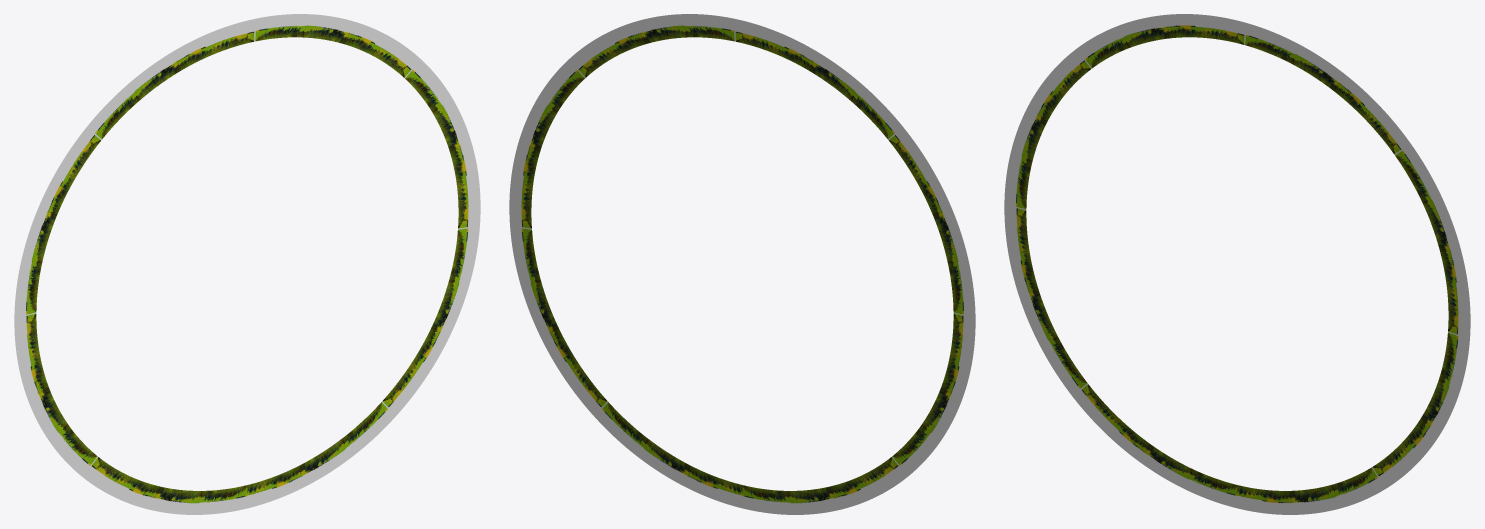
The model's file is ForegroundDisk.FBX.
The picture shows the model from 3 angles, left to right: view 1: azimuth 30°, elevation 25°; view 2: azimuth 150°, elevation 25°; view 3: azimuth 330°, elevation 25°; orthographic projection.
Visible parts, largest first — view 1: ForegroundDisk; view 2: ForegroundDisk; view 3: ForegroundDisk.
Part boxes in pixels (bbox=[...]): ForegroundDisk: bbox=[14, 14, 480, 514]; ForegroundDisk: bbox=[509, 14, 975, 514]; ForegroundDisk: bbox=[1004, 14, 1470, 514].
Size of the model in its own units: 861 by 861 by 0.000202.
Materials: 1 (1 with a texture image).
